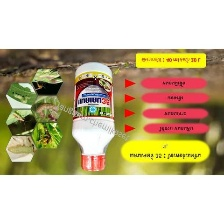insecticide: (70, 58, 117, 173)
